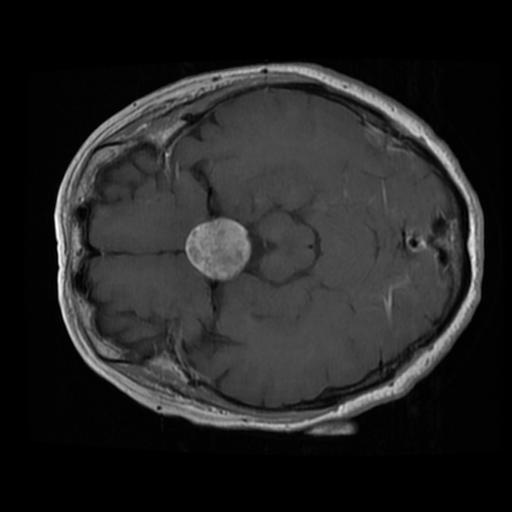pituitary tumour: (185, 218, 251, 280)
